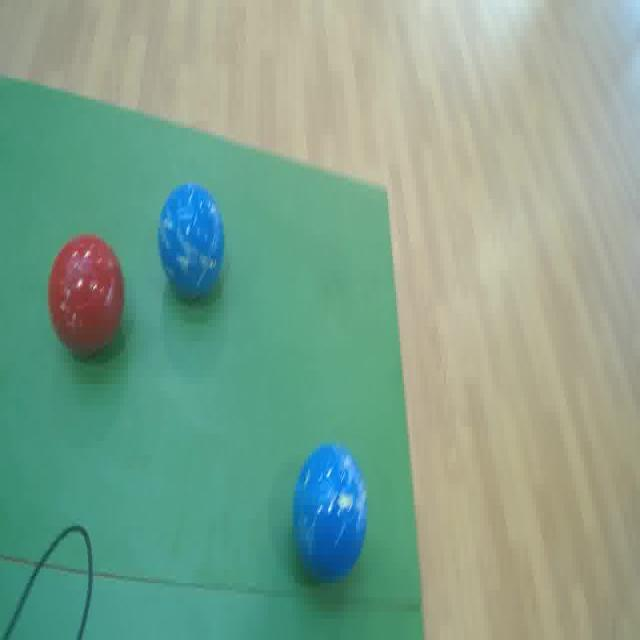blue_ball: (284, 437, 373, 591), (154, 176, 230, 312)
red_ball: (51, 226, 127, 371)
